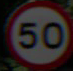Speed limit: (6, 2, 68, 64)
